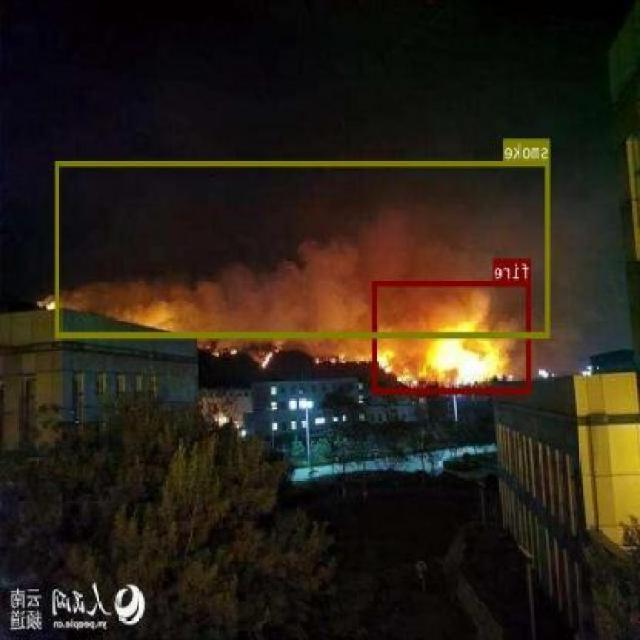Fire: (373, 279, 532, 393)
Smoke: (56, 160, 550, 337)
